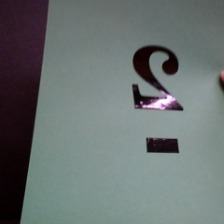green2: (124, 38, 194, 160)
